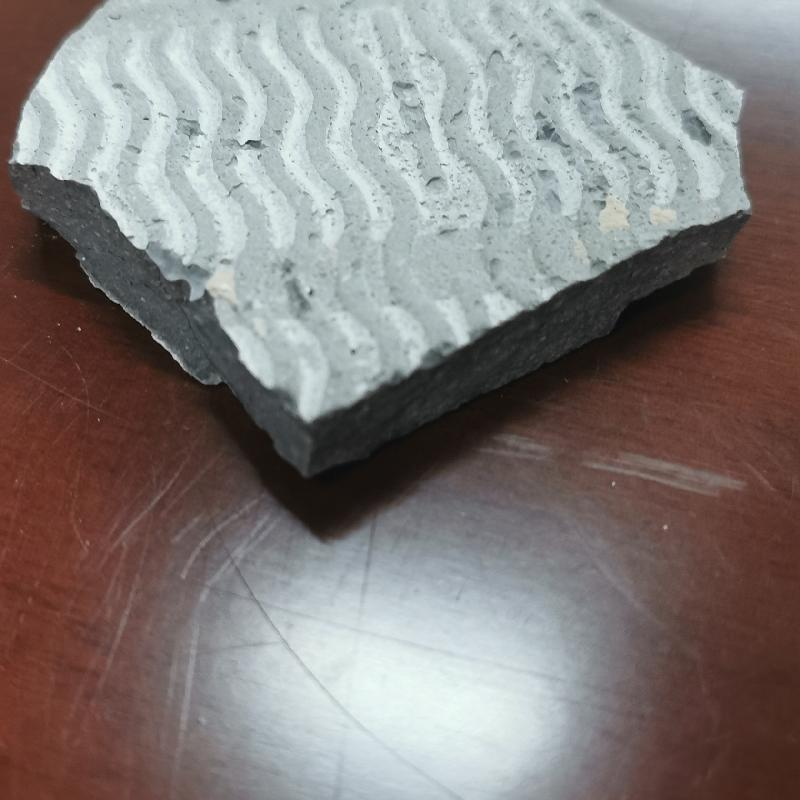tile: (11, 2, 754, 482)
